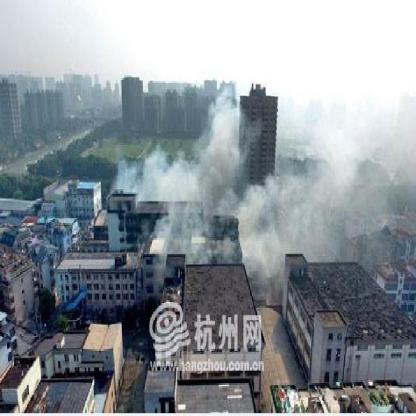smoke: (292, 168, 350, 260), (199, 76, 237, 208), (246, 188, 286, 306), (116, 152, 198, 209), (156, 219, 206, 270)
